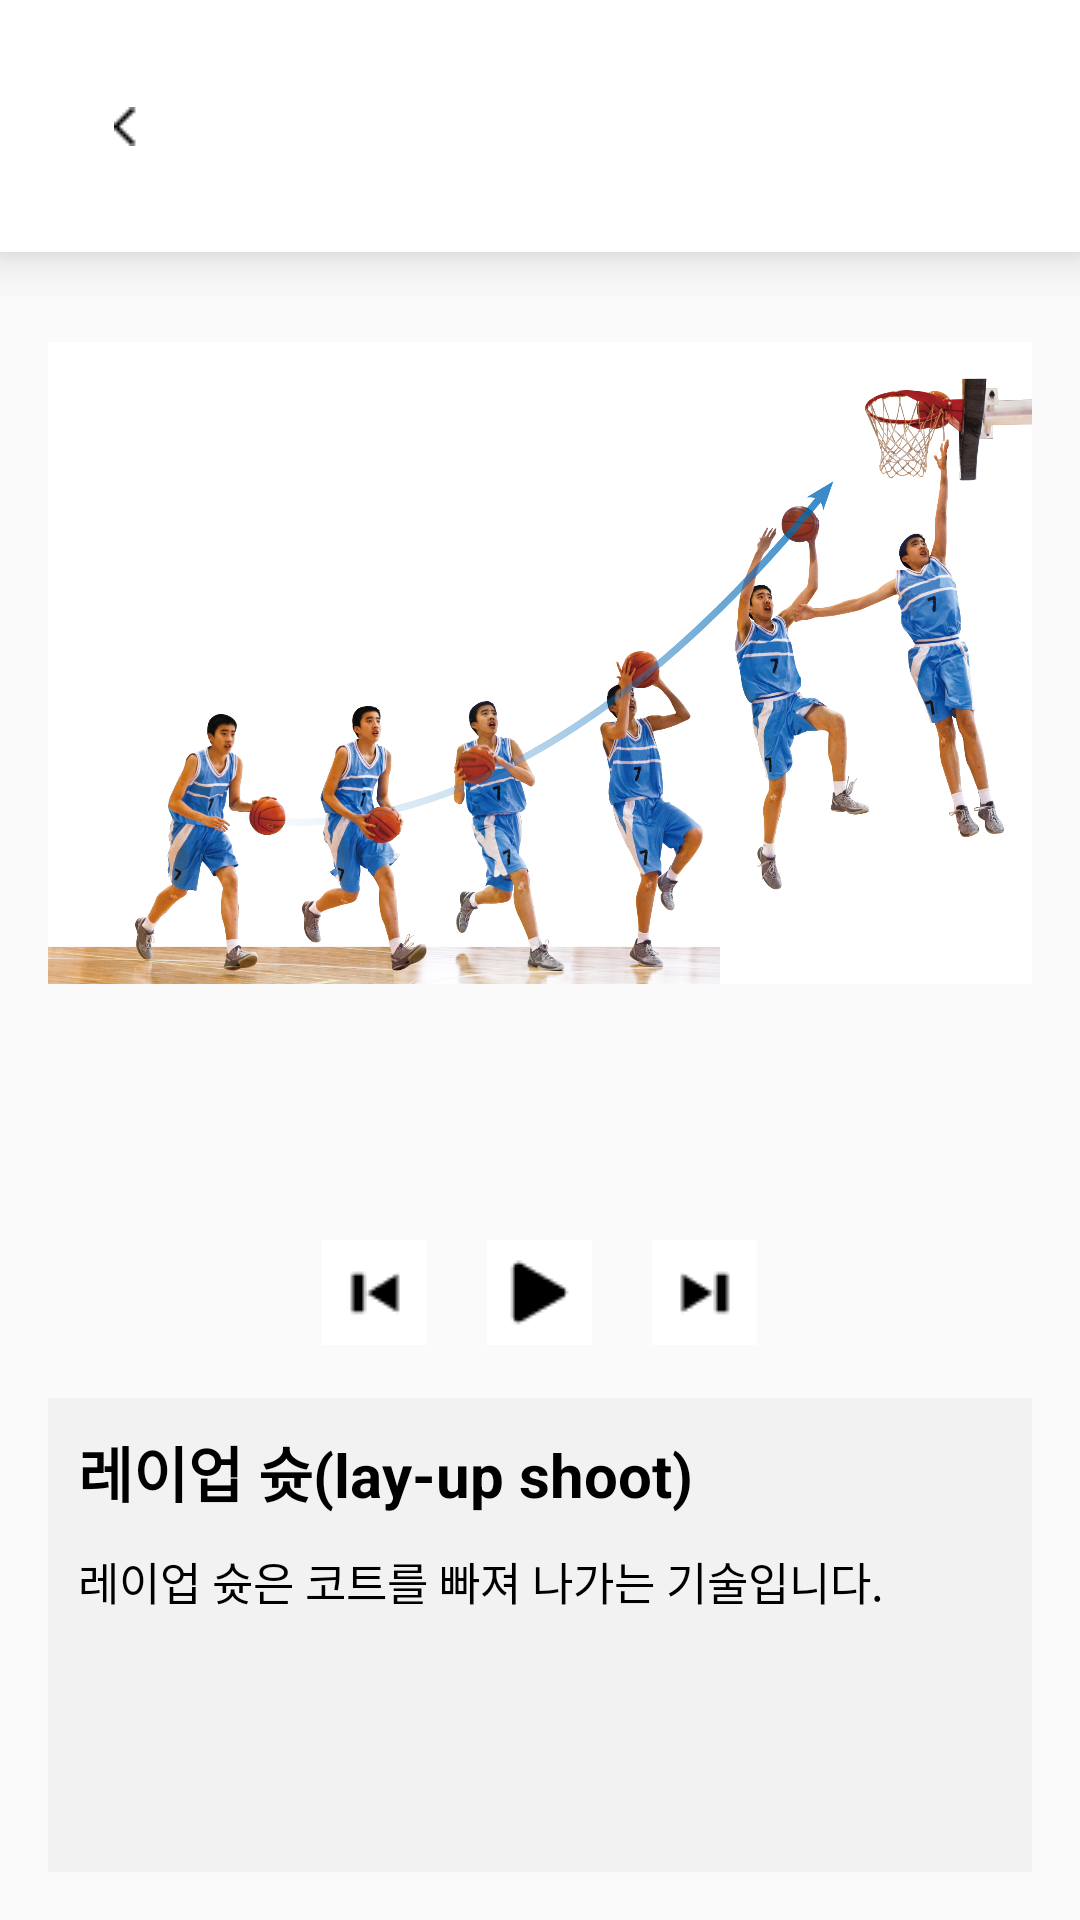

Icons on this 1080*1920 Android screen, each with the point to tap as (x,y):
backbutton: (125,126)
beforeplay: (375,1293)
nextplay: (705,1293)
stopplay: (539,1292)
